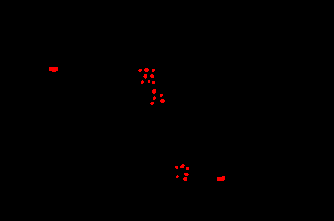Target: (49, 67, 58, 72), (217, 176, 225, 181), (144, 68, 149, 72), (143, 74, 147, 79), (152, 89, 156, 94), (160, 99, 165, 103), (180, 164, 185, 168), (150, 74, 154, 78), (183, 177, 187, 181), (184, 173, 189, 176), (138, 69, 142, 72), (141, 80, 144, 84), (153, 96, 156, 100), (150, 102, 154, 105), (152, 69, 155, 72), (152, 81, 155, 84), (160, 94, 163, 97), (175, 166, 178, 169), (186, 167, 189, 170), (176, 175, 179, 178), (148, 80, 150, 83)
